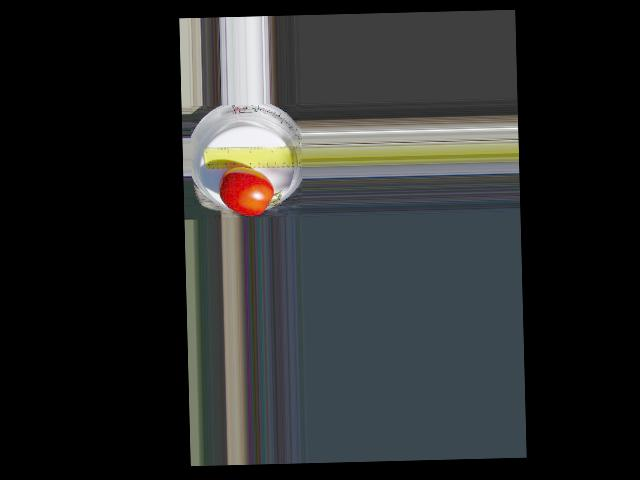tomato: (218, 165, 275, 217)
